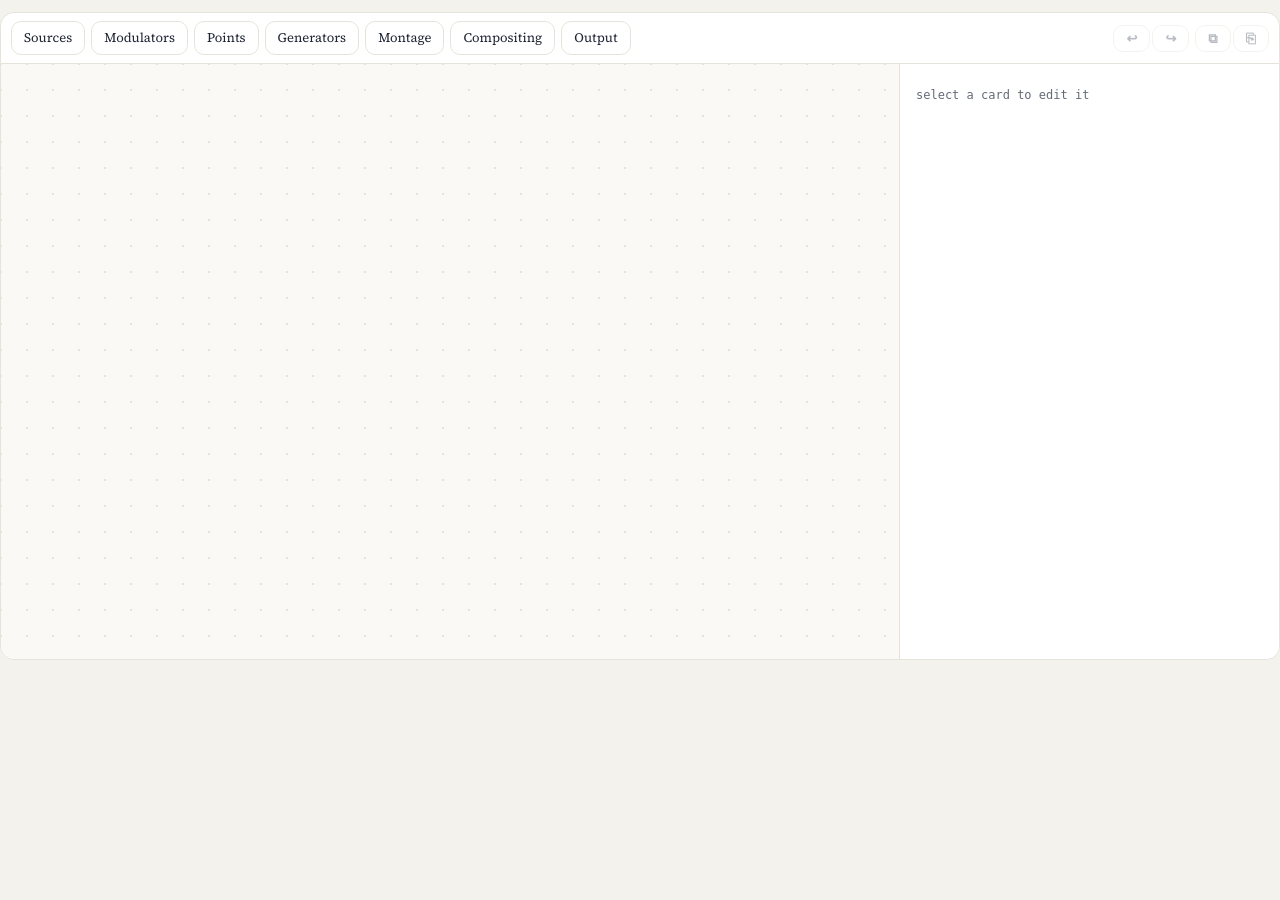
⌘K in the animation editor › adds a card by name — no category browsing
Press k
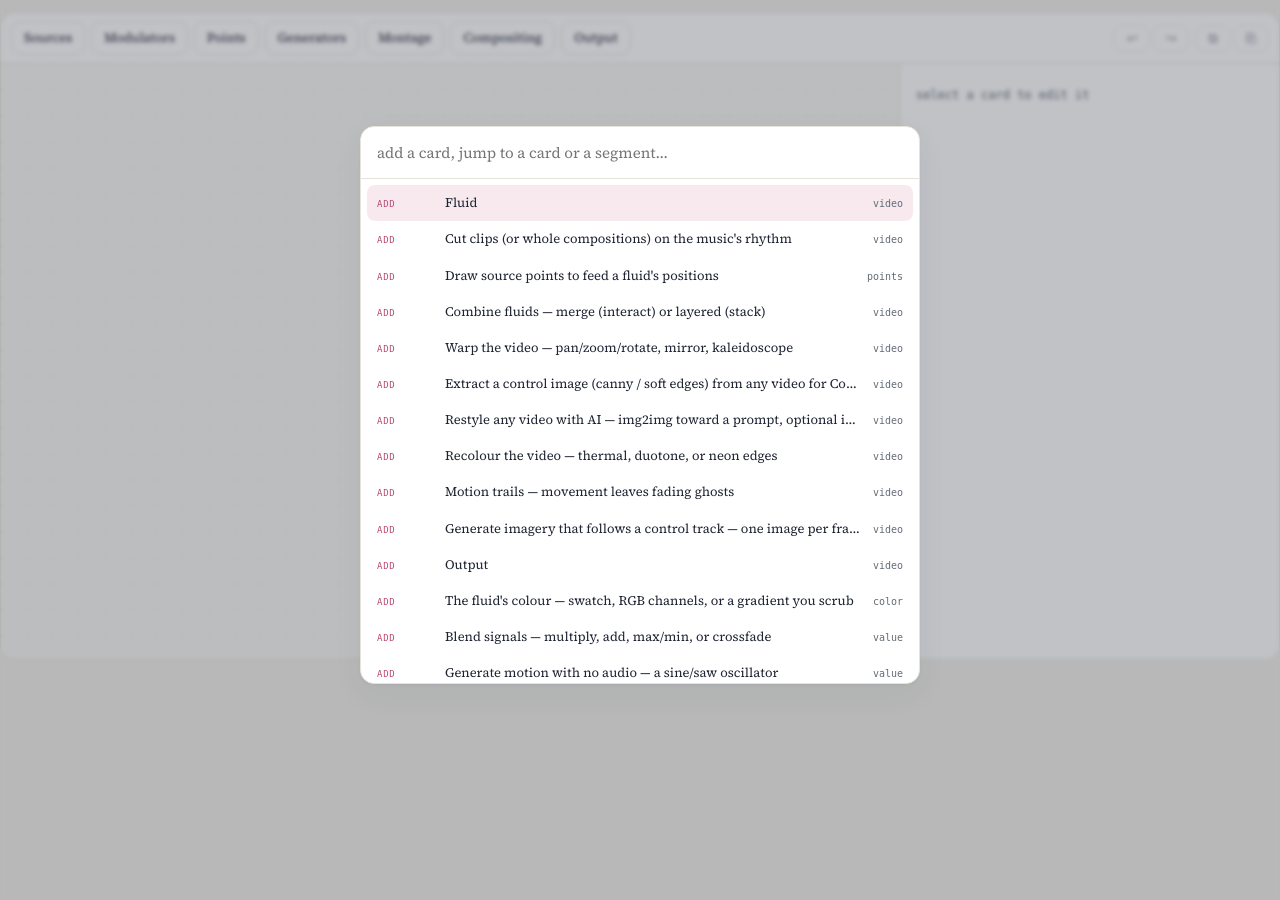
Type "lyrics" into the field with class "cmdk-input".
click(640, 153); type("lyrics")  # box [361,127,919,179]
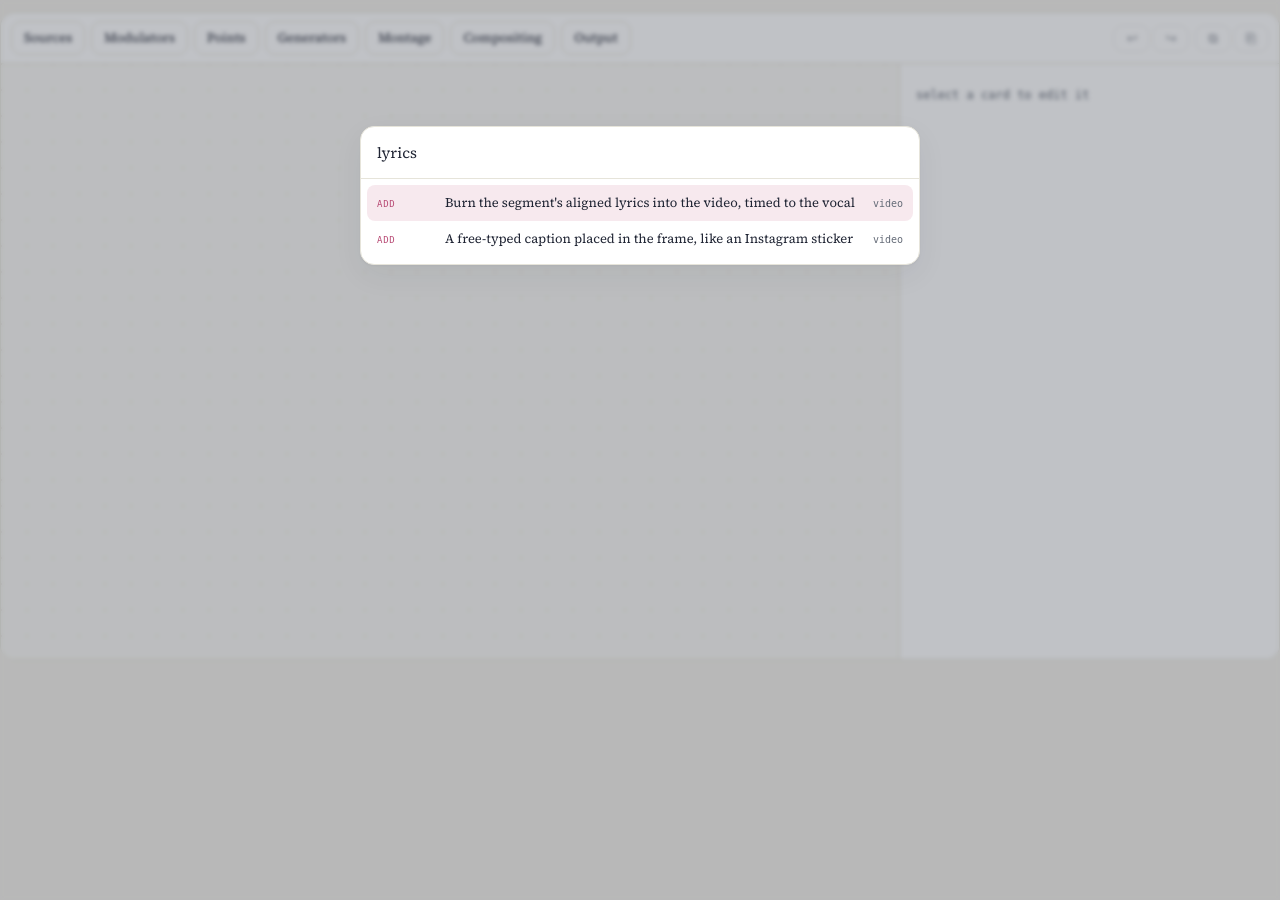
Click the 1st button with class "cmdk-row".
click(640, 203)  # box [367,185,913,221]
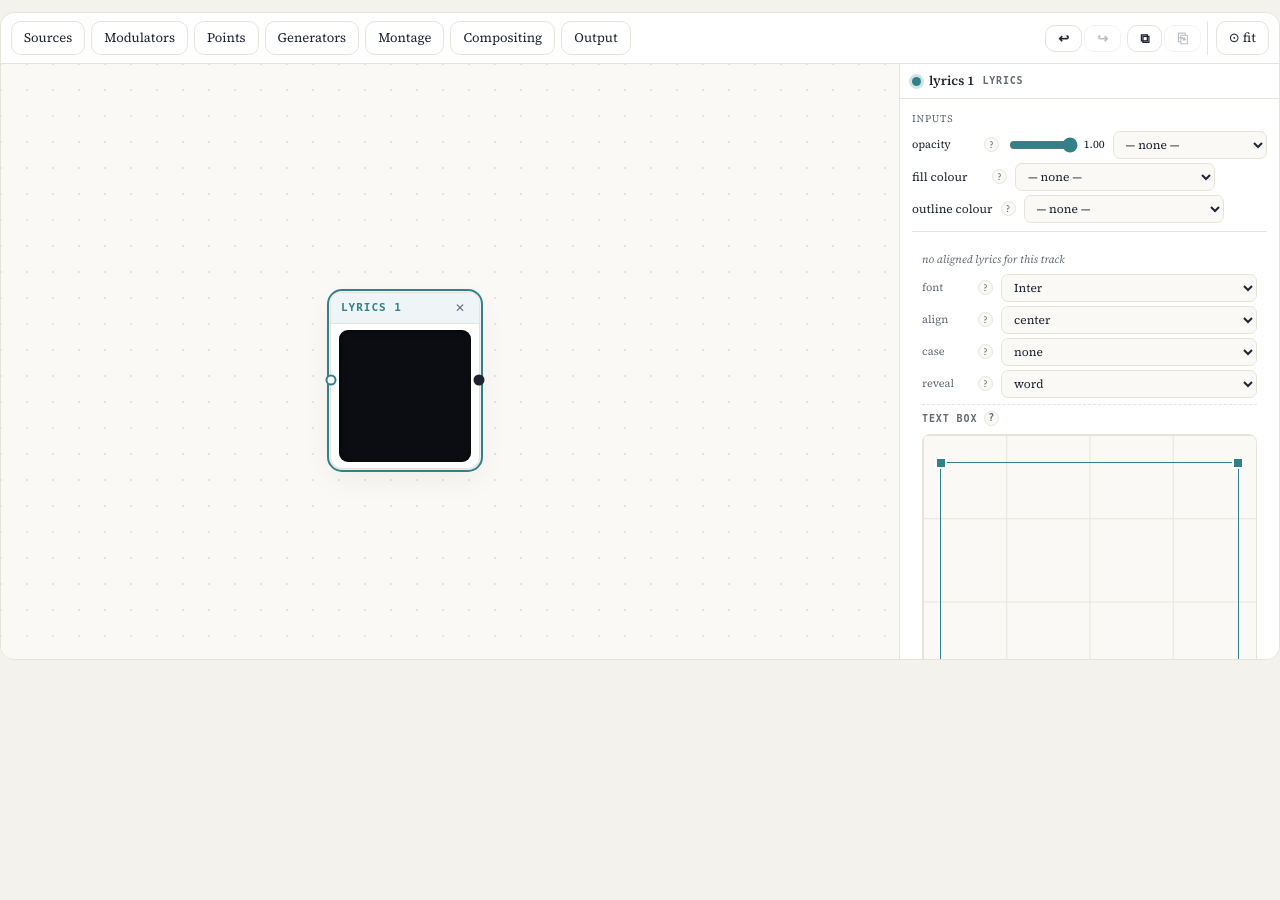
Expected: the dialog with class "cmdk" is gone
